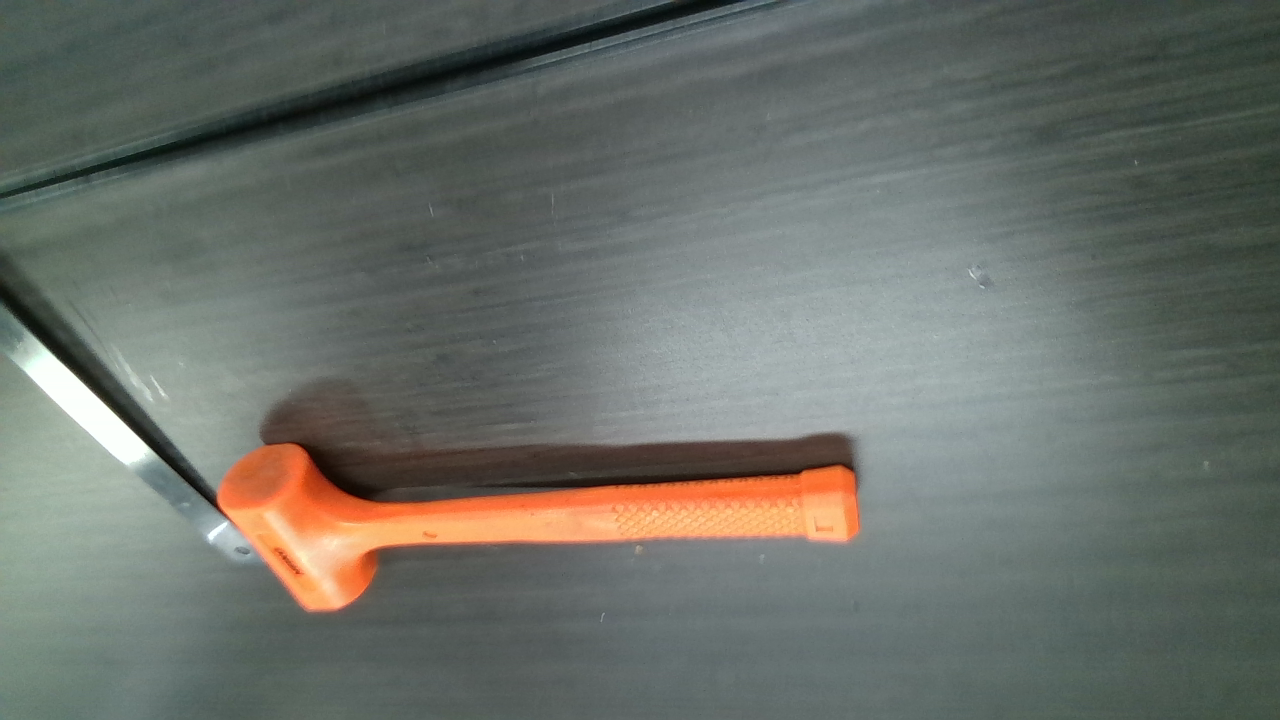Orange Hammer: (224, 444, 859, 610)
